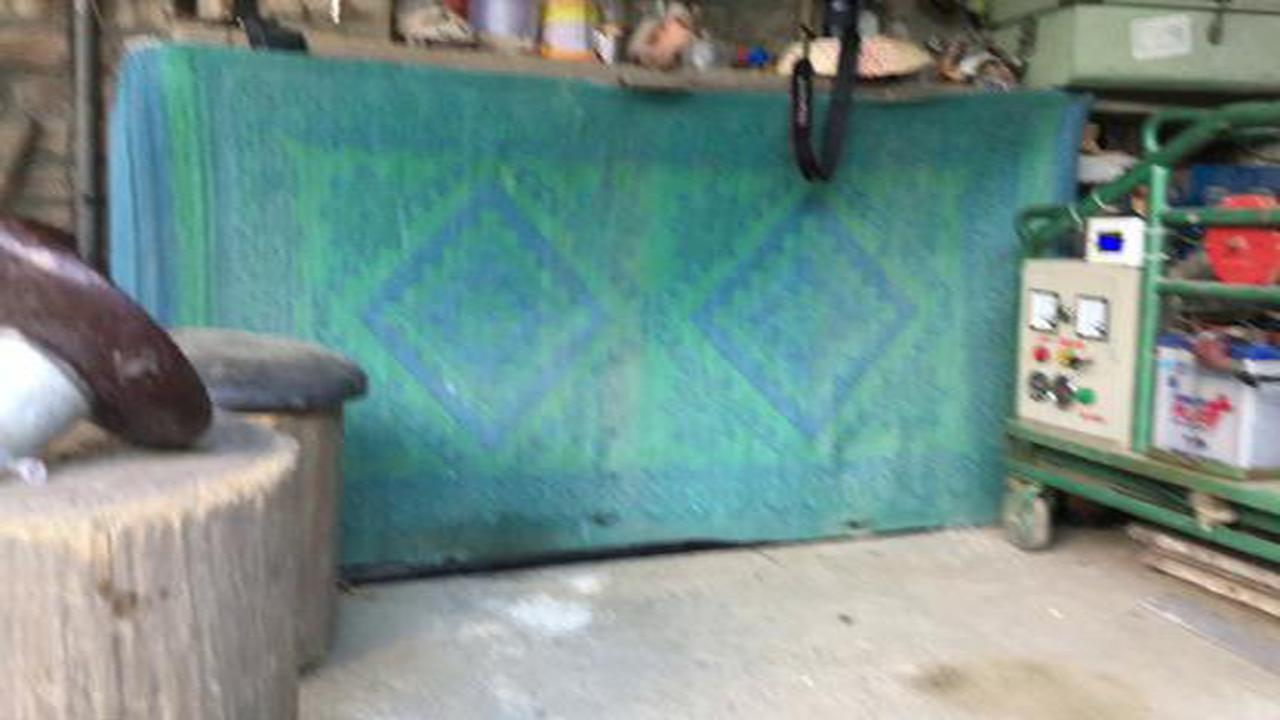insulator_disc: (5, 225, 221, 484)
